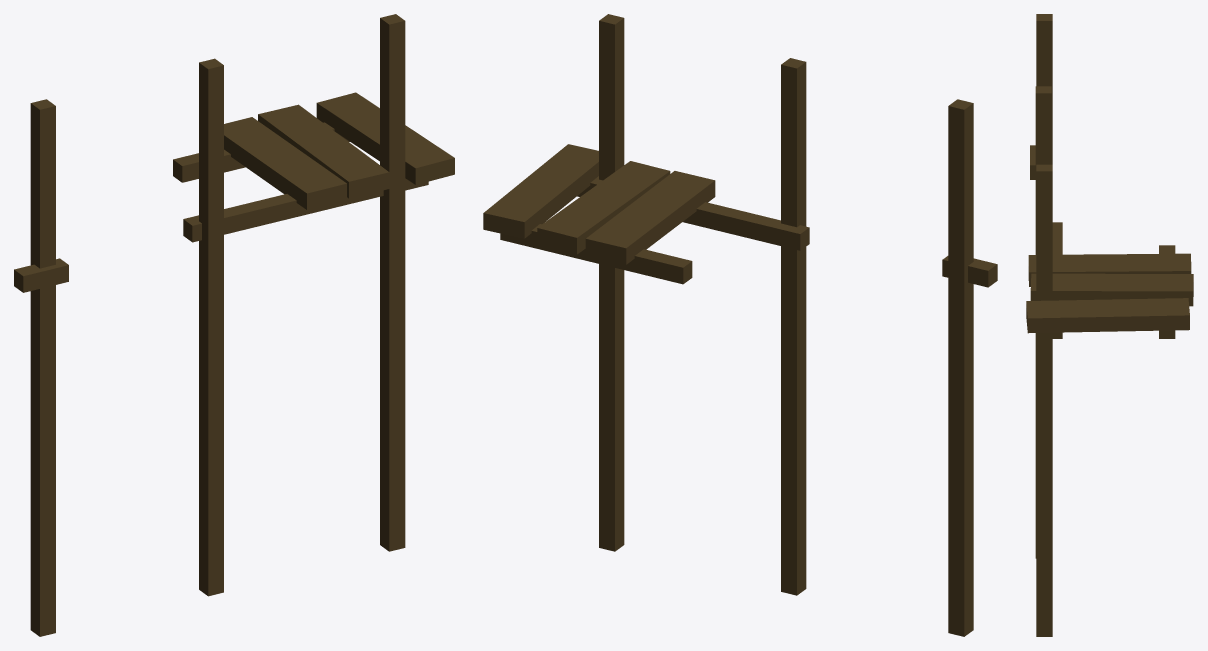
Rendered from DarkWoodFloorSmallBrokenPlatform1.fbx.
3 renders of one model, left to right at view 1: azimuth 30°, elevation 25°; view 2: azimuth 150°, elevation 25°; view 3: azimuth 270°, elevation 25°, orthographic. The views are drawn at different scales.
Visible parts, largest first — view 1: Framework1; view 2: Framework1; view 3: Framework1.
Boxes of the visible parts, bbox=[...] form: Framework1: bbox=[14, 14, 454, 636]; Framework1: bbox=[483, 14, 997, 636]; Framework1: bbox=[1026, 14, 1193, 636].
Size of the model in its own units: 810 by 947 by 309.
